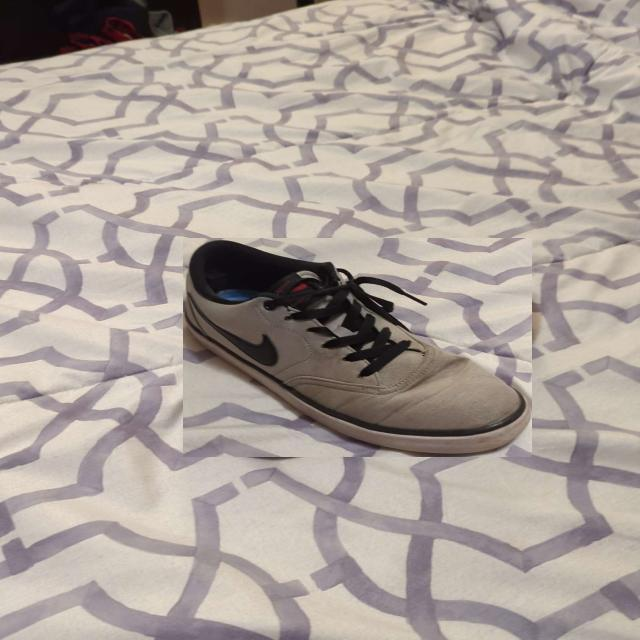shoe: (183, 238, 532, 457)
